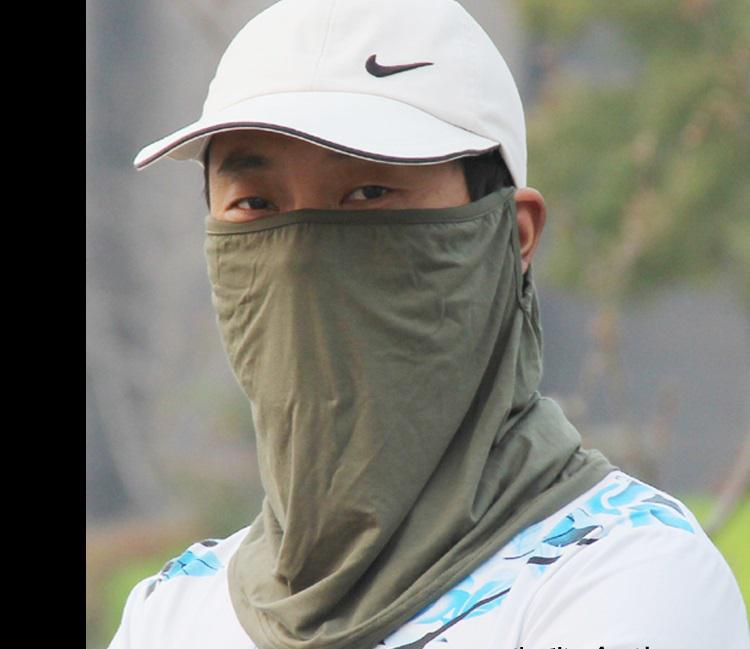OK: (202, 129, 470, 432)
